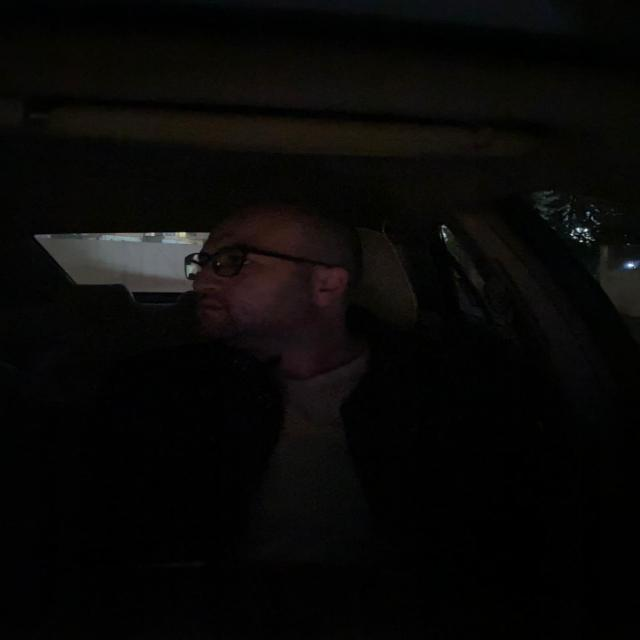person: (182, 189, 360, 365)
